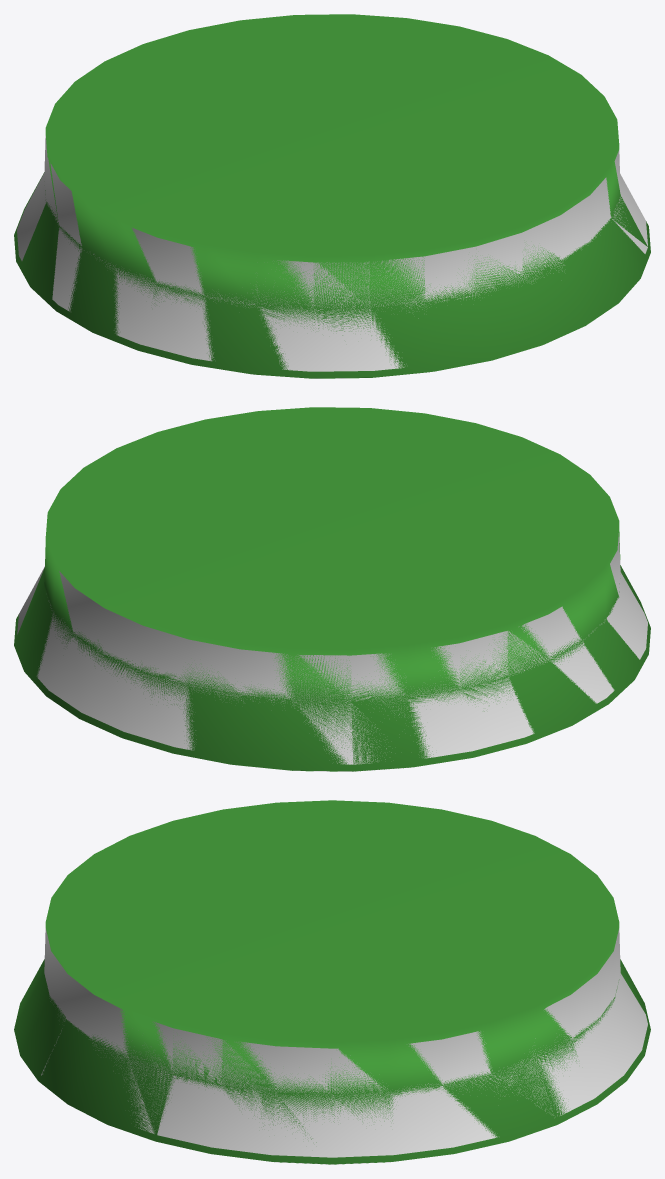
Rendered from DuctTubeConnector_01_Mesh.fbx.
3 renders of one model, top to bottom at view 1: azimuth 30°, elevation 25°; view 2: azimuth 150°, elevation 25°; view 3: azimuth 270°, elevation 25°, orthographic.
Parts seen in each view (by area): view 1: Duct_TubeConnector_01_Col, Duct_TubeConnector_01_LOD0; view 2: Duct_TubeConnector_01_Col, Duct_TubeConnector_01_LOD0; view 3: Duct_TubeConnector_01_Col, Duct_TubeConnector_01_LOD0.
Part boxes in pixels (x1,y1,x2,y2): Duct_TubeConnector_01_Col: (14,14,650,378); Duct_TubeConnector_01_LOD0: (17,136,647,371); Duct_TubeConnector_01_Col: (14,407,650,771); Duct_TubeConnector_01_LOD0: (17,533,647,771); Duct_TubeConnector_01_Col: (14,800,650,1164); Duct_TubeConnector_01_LOD0: (41,928,647,1164).
Size of what is drawn, in the model's own units: 77.36 by 15.85 by 77.36.
